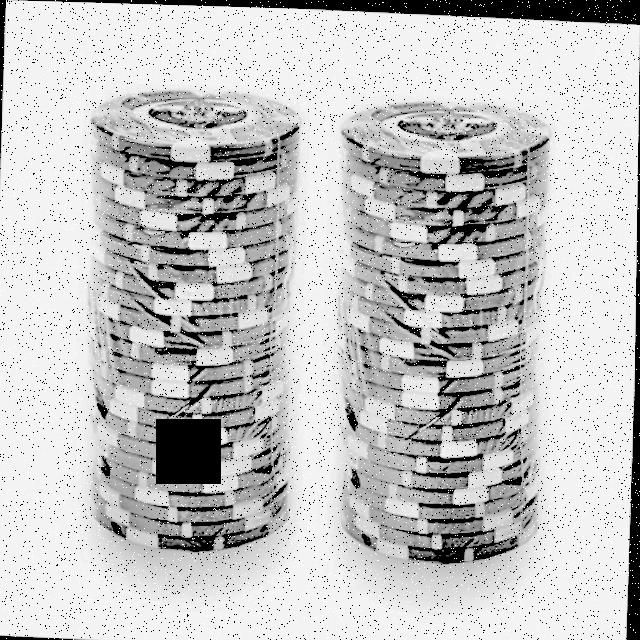Chip: (319, 86, 569, 572), (62, 77, 314, 559)
